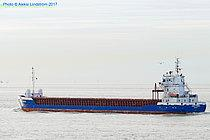Ship: (13, 56, 208, 117)
